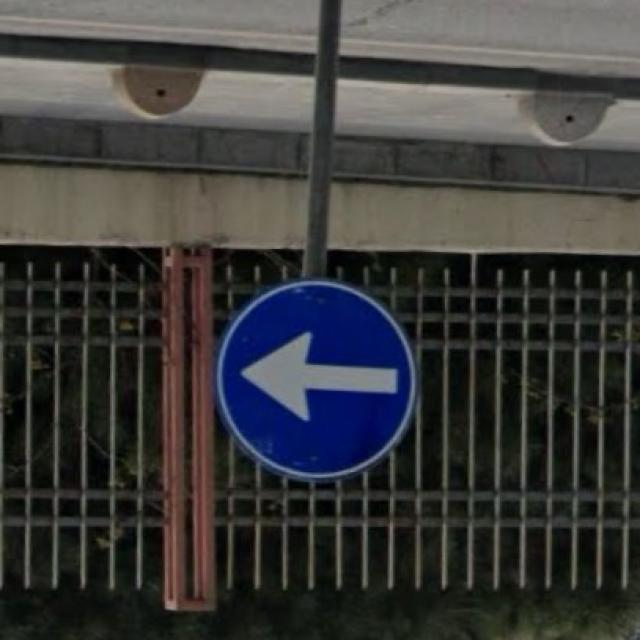Turn Left: (216, 276, 418, 480)
